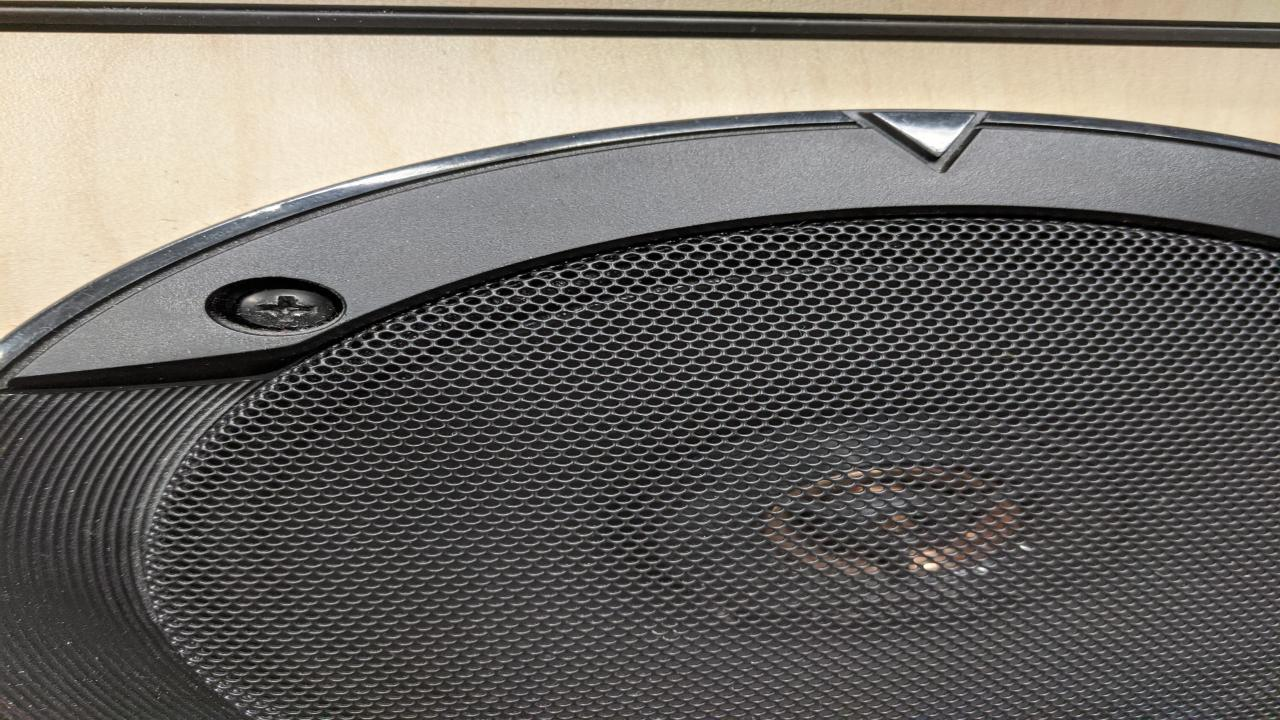CRS: (230, 286, 342, 332)
